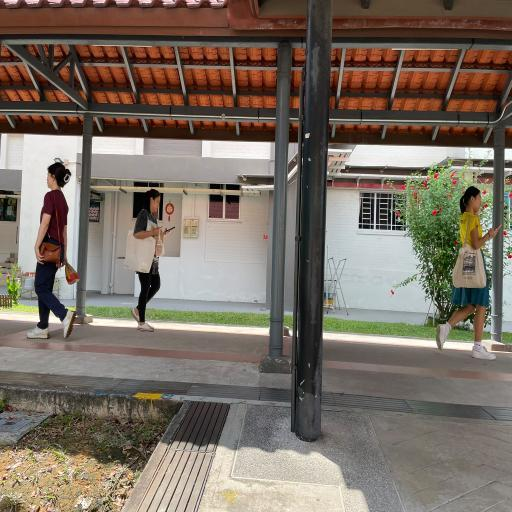person_left: (34, 157, 78, 345)
person_right: (437, 188, 502, 356), (129, 190, 169, 336)
